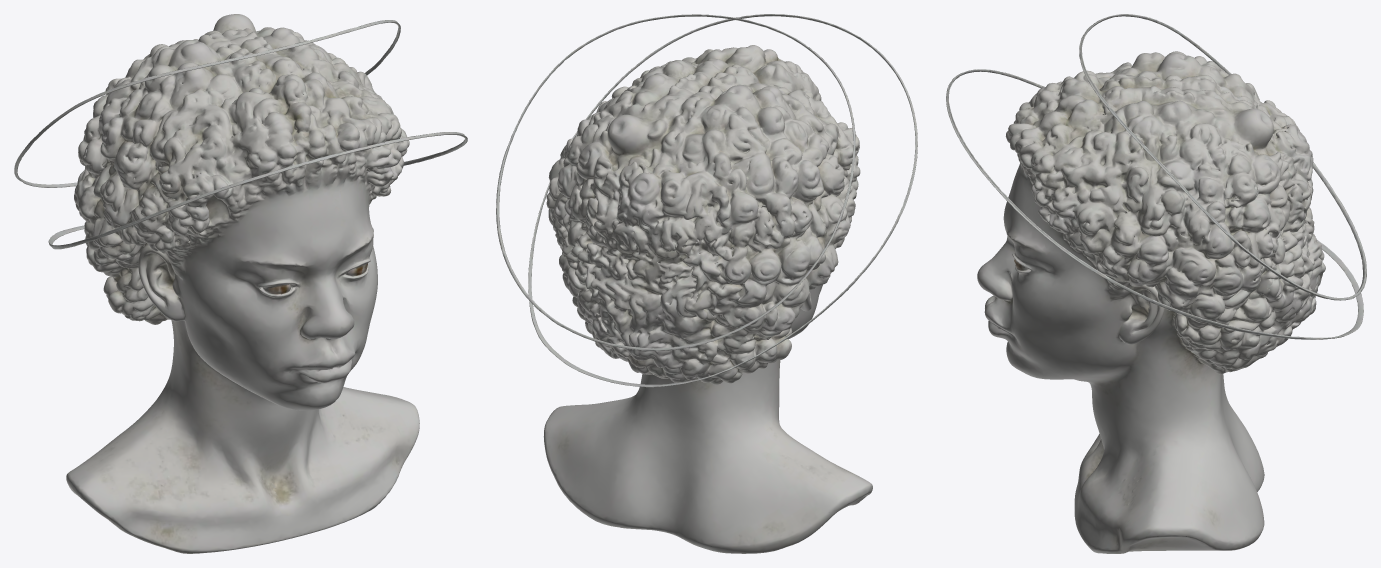
The model's file is statue.glb.
3 renders of one model, left to right at view 1: azimuth 30°, elevation 25°; view 2: azimuth 150°, elevation 25°; view 3: azimuth 270°, elevation 25°, orthographic. The views are drawn at different scales.
Parts seen in each view (by area): view 1: world; view 2: world; view 3: world.
Part boxes in pixels (box(x1,y1,x2,y2)): world: box(14, 14, 467, 553); world: box(496, 14, 917, 553); world: box(946, 14, 1366, 553).
Bounding box in the file's own units: 0.7584 × 1 × 0.8298.
1 material, 1 textured.
